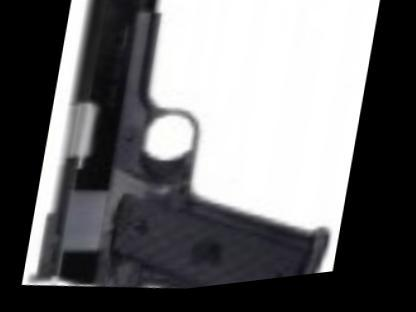pistol: (25, 0, 370, 308)
